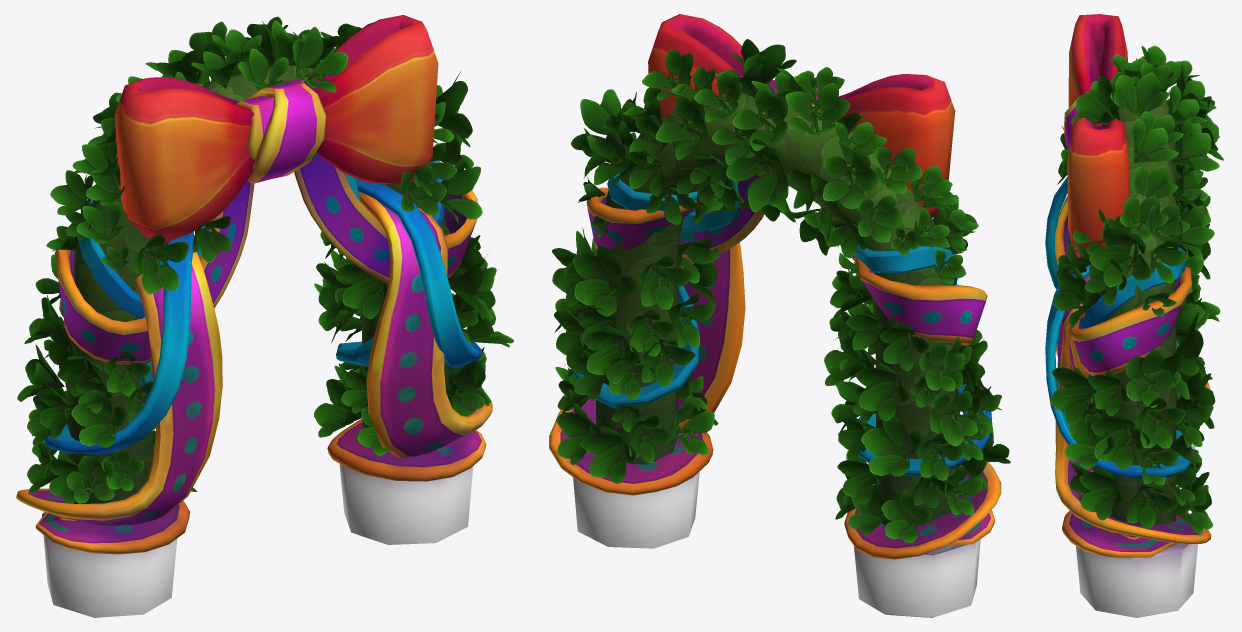
Rendered from SE_Gate_01.fbx.
3 renders of one model, left to right at view 1: azimuth 30°, elevation 25°; view 2: azimuth 150°, elevation 25°; view 3: azimuth 270°, elevation 25°, orthographic. The views are drawn at different scales.
Visible parts, largest first — view 1: SE_Gate_01; view 2: SE_Gate_01; view 3: SE_Gate_01.
Boxes of the visible parts, x1=… form: SE_Gate_01: x1=16, y1=15, x2=513, y2=617; SE_Gate_01: x1=549, y1=14, x2=1010, y2=617; SE_Gate_01: x1=1045, y1=14, x2=1223, y2=617.
Size of the model in its own units: 7.55 by 8.38 by 2.96.
